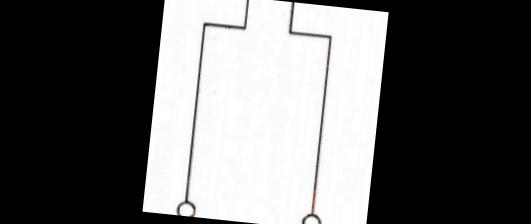nor: (144, 191, 232, 221), (269, 204, 357, 224)
